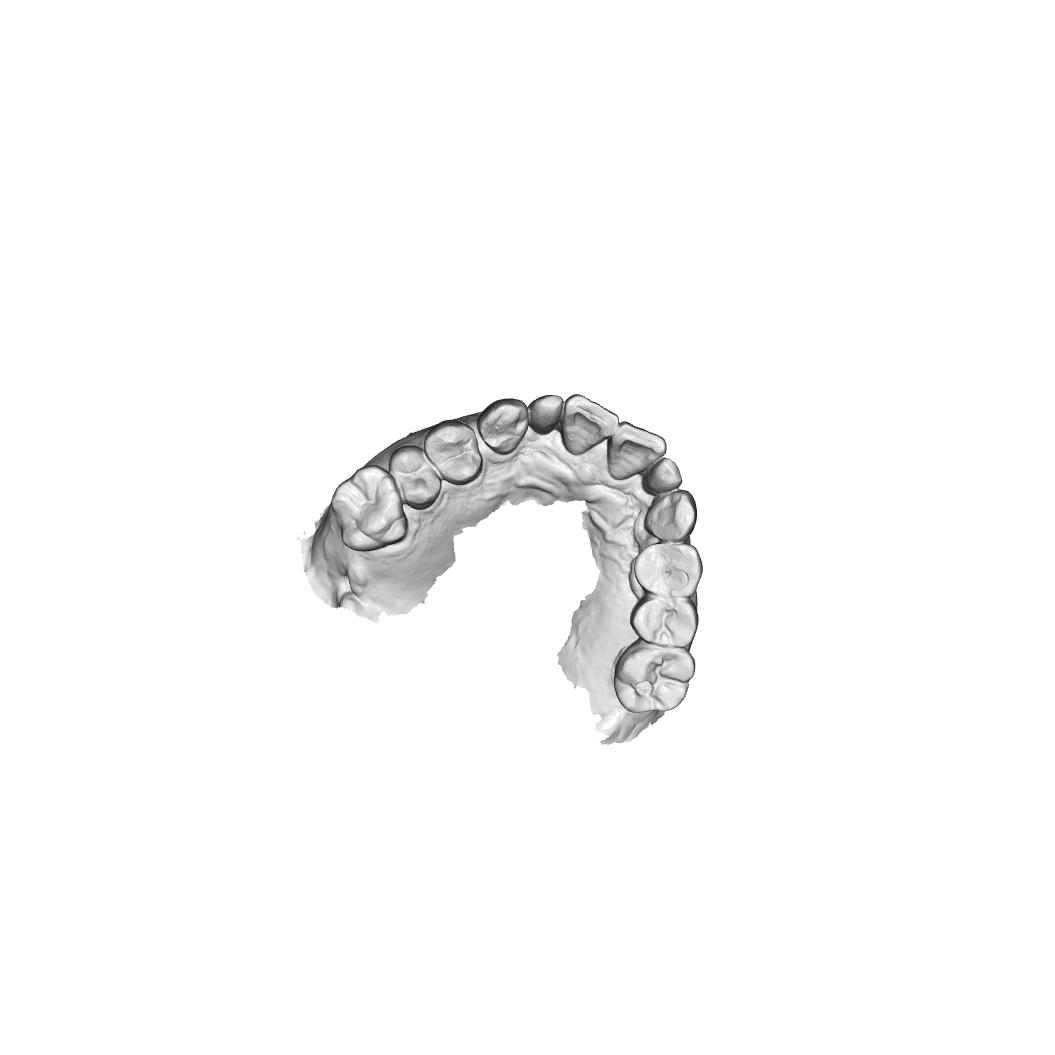canine: (476, 397, 530, 456), (643, 489, 698, 542)
crown: (526, 393, 565, 436), (642, 457, 684, 495)
incisor: (561, 392, 619, 456), (606, 421, 668, 480)
molar: (331, 465, 409, 552), (613, 639, 697, 714)
premolar: (632, 540, 704, 597), (423, 419, 483, 486), (628, 594, 699, 649), (388, 444, 442, 511)
